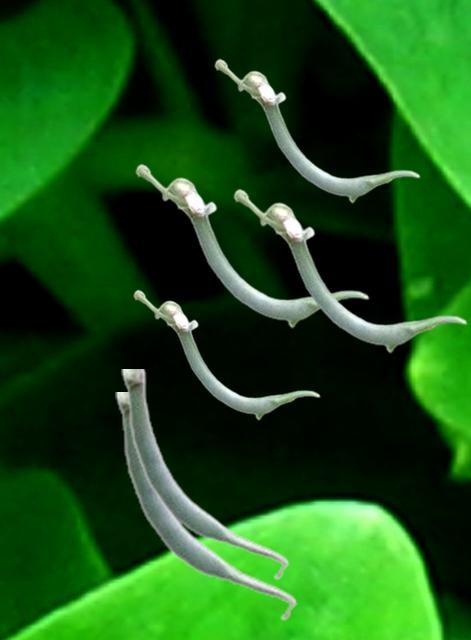french_bean: (115, 392, 296, 621), (135, 163, 368, 327), (233, 188, 466, 352), (121, 369, 288, 580), (214, 58, 419, 202), (133, 289, 319, 419)
